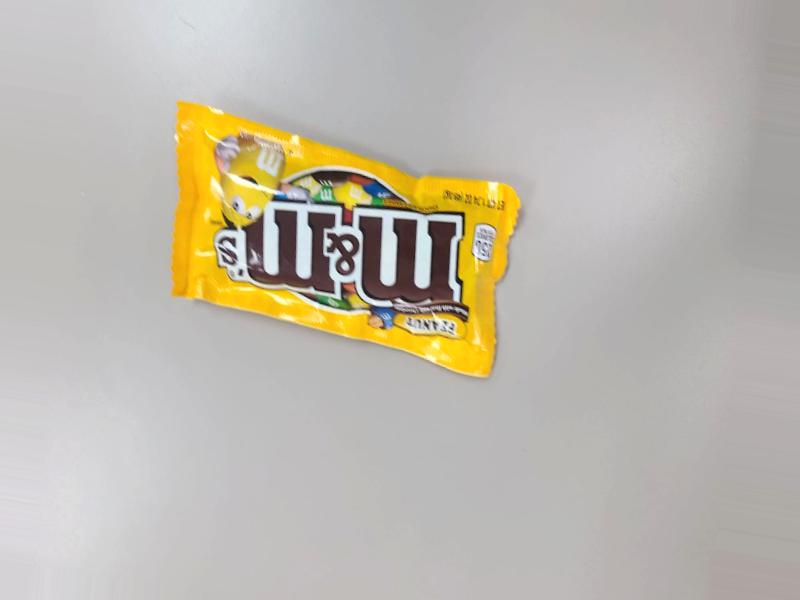m&m: (181, 96, 516, 381)
